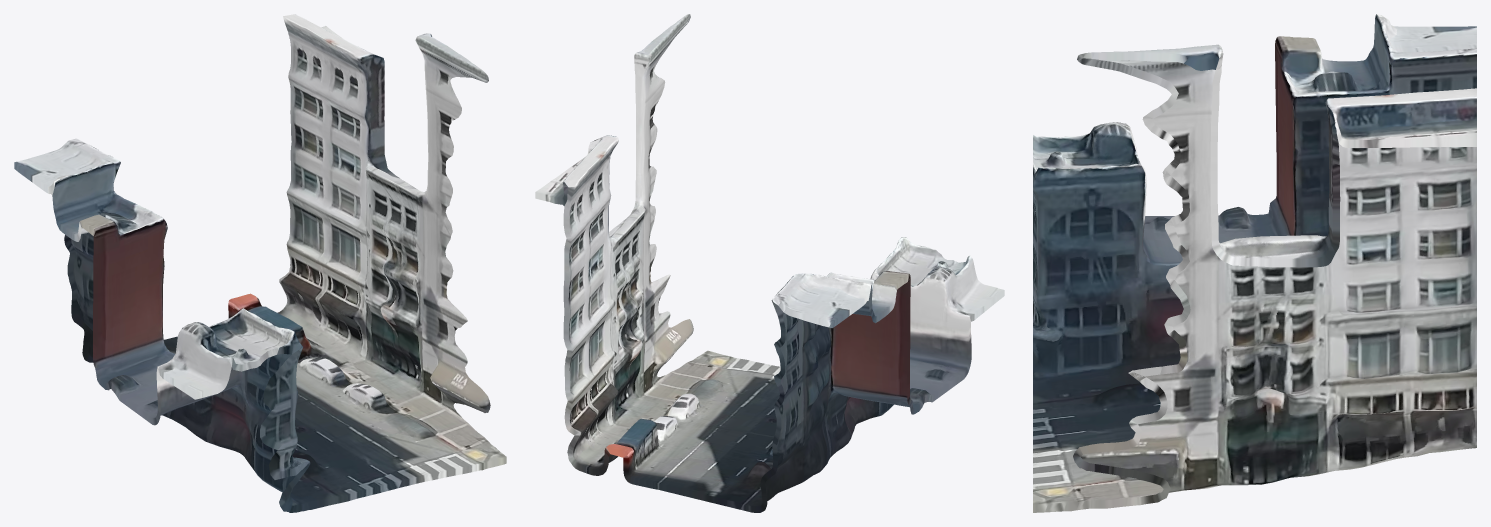
File: z20-167755-405242-h0-yup-uvflip-v3-world.glb
The picture shows the model from 3 angles, left to right: view 1: azimuth 30°, elevation 25°; view 2: azimuth 150°, elevation 25°; view 3: azimuth 270°, elevation 25°; orthographic projection. The views are drawn at different scales.
Bounding box in the file's own units: 30.16 × 34.8 × 30.32.
1 material, 1 textured.
